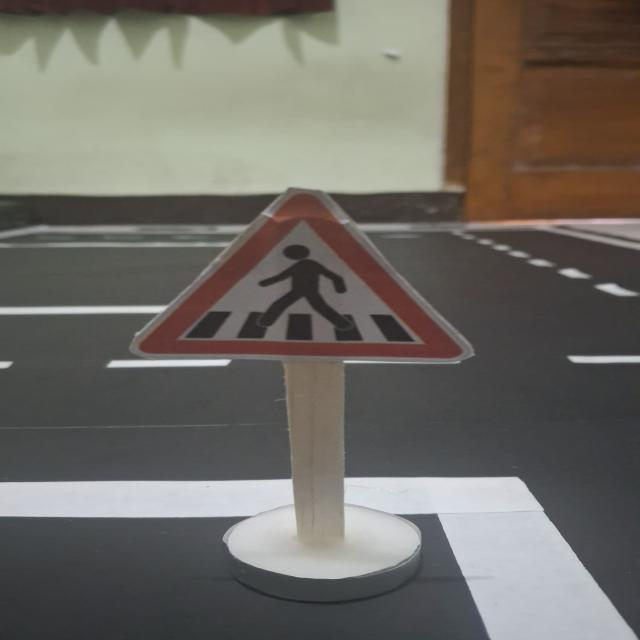Rambu Penyebrangan: (129, 186, 472, 356)
